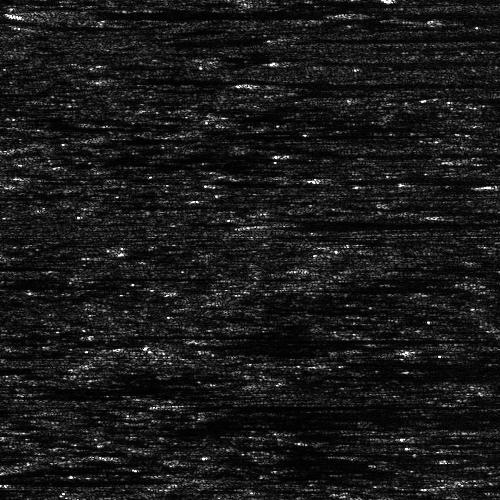rock: (252, 353, 367, 370), (110, 398, 215, 415), (0, 5, 111, 20), (236, 173, 371, 184), (57, 72, 150, 87), (117, 130, 242, 139), (224, 80, 297, 89), (360, 435, 443, 442), (104, 325, 135, 340), (251, 218, 314, 225), (311, 10, 384, 15), (245, 150, 308, 155), (445, 155, 498, 160), (250, 58, 303, 63), (186, 338, 227, 341), (478, 184, 500, 187)
shadow: (44, 5, 500, 20), (163, 398, 500, 415), (310, 353, 500, 370), (304, 173, 500, 184), (104, 72, 240, 87), (120, 325, 252, 340), (261, 80, 474, 89), (180, 130, 388, 139), (283, 218, 494, 225), (0, 475, 155, 482), (277, 58, 493, 63), (348, 10, 500, 15), (277, 150, 418, 155), (402, 435, 500, 442), (207, 338, 411, 341)
